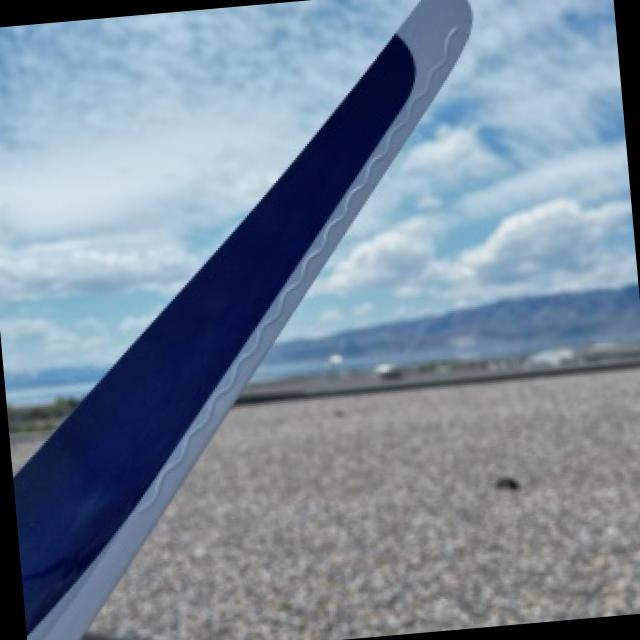healthy: (12, 0, 466, 640)
